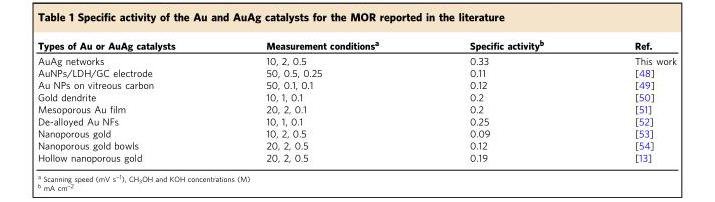table: (36, 37, 675, 162)
table column: (220, 37, 423, 162), (36, 37, 220, 162), (423, 37, 588, 162), (588, 37, 675, 162)
table column header: (36, 37, 675, 52)
table row: (36, 37, 675, 52), (36, 52, 675, 66), (36, 138, 675, 151), (36, 66, 675, 78), (36, 78, 675, 90), (36, 90, 675, 102), (36, 102, 675, 114), (36, 114, 675, 126), (36, 126, 675, 138), (36, 151, 675, 162)
